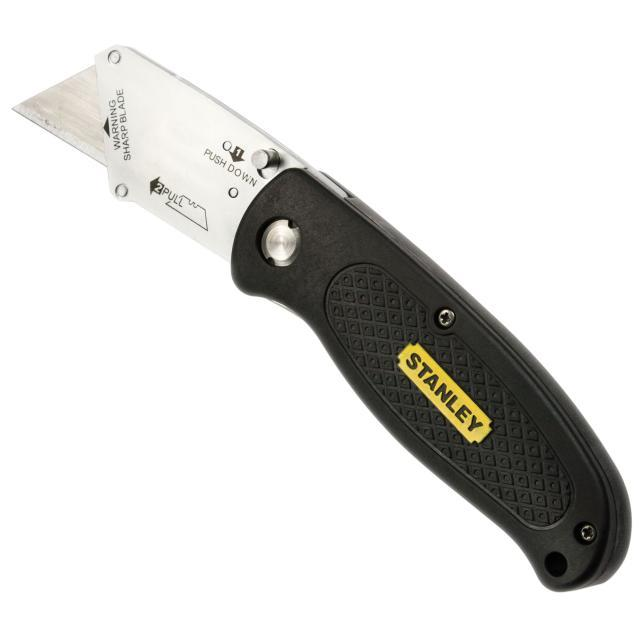estilete: (13, 46, 631, 590)
